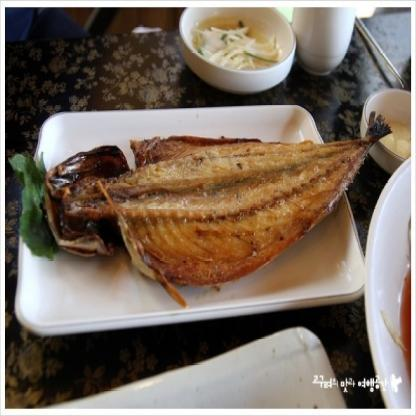Peixe: (44, 115, 392, 290)
